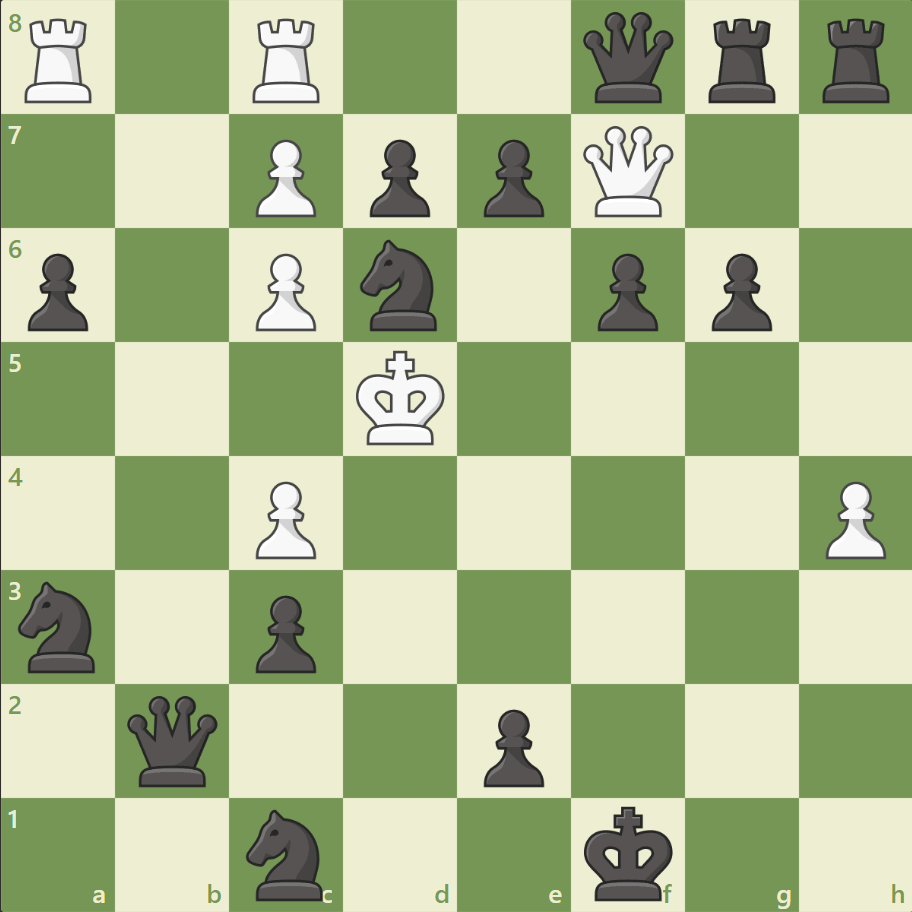K: (351, 344, 451, 452)
P: (247, 132, 322, 223), (247, 246, 322, 337), (247, 473, 322, 564), (815, 473, 889, 564)
Q: (578, 122, 677, 222)
R: (19, 12, 102, 109), (246, 12, 329, 109)
k: (579, 798, 679, 906)
n: (351, 234, 449, 337), (11, 575, 108, 677), (238, 802, 335, 904)
p: (474, 132, 549, 223), (20, 246, 95, 337), (701, 246, 776, 337), (247, 586, 322, 677), (474, 700, 549, 791), (361, 132, 435, 223), (588, 246, 662, 337)
q: (578, 9, 677, 108), (124, 690, 223, 789)
r: (700, 12, 783, 109), (814, 12, 897, 109)
